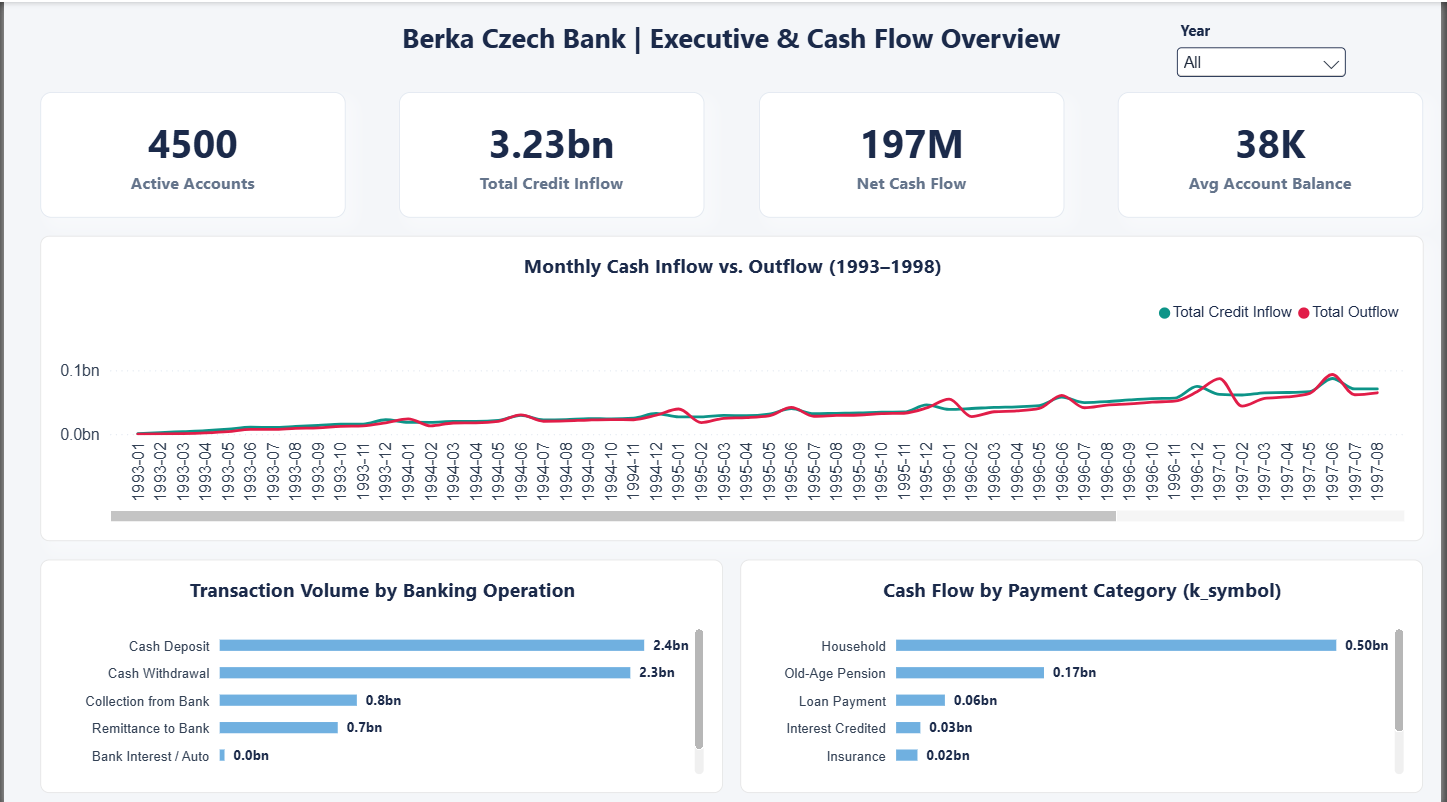

This screenshot's page, from the dashboard's own definition file:
{"tool":"powerbi","page":{"name":"Executive Overview","canvas":[1280,720],"ordinal":0},"visuals":[{"type":"textbox","box":[16,16,1264,48],"z":0},{"type":"slicer","fields":{"Values":["DimDate.Year"]},"box":[1040,16,160,64],"z":1000},{"type":"card","fields":{"Values":["_Measures.Active Accounts"]},"box":[32,80,272,112],"z":2000},{"type":"card","fields":{"Values":["_Measures.Avg Account Balance"]},"box":[992,80,272,112],"z":3000},{"type":"card","fields":{"Values":["_Measures.Net Cash Flow"]},"box":[672,80,272,112],"z":4000},{"type":"card","fields":{"Values":["_Measures.Total Credit Inflow"]},"box":[352,80,272,112],"z":5000},{"type":"lineChart","title":"Monthly Cash Inflow vs. Outflow (1993–1998)","fields":{"Category":["DimDate.Year-Month"],"Y":["_Measures.Total Credit Inflow","_Measures.Total Outflow"]},"box":[32,208,1232,272],"z":6000},{"type":"barChart","title":"Transaction Volume by Banking Operation","fields":{"Category":["vw_monthly_transactions.operation"],"Y":["Sum(vw_monthly_transactions.total_amount)"]},"box":[32,496,608,208],"z":7000},{"type":"barChart","title":"Cash Flow by Payment Category (k_symbol)","fields":{"Category":["vw_monthly_transactions.k_symbol"],"Y":["Sum(vw_monthly_transactions.total_amount)"]},"box":[656,496,608,208],"z":8000}]}

Visuals, with their boxes in screenshot pixels (x1, y1, x2, y2), scaled from the page's 1280x720 canvas onto the 1447x802 screenshot:
textbox: 18, 18, 1446, 71
slicer - DimDate.Year: 1176, 18, 1357, 89
card - _Measures.Active Accounts: 36, 89, 344, 214
card - _Measures.Avg Account Balance: 1121, 89, 1429, 214
card - _Measures.Net Cash Flow: 760, 89, 1067, 214
card - _Measures.Total Credit Inflow: 398, 89, 705, 214
"Monthly Cash Inflow vs. Outflow (1993–1998)" lineChart: 36, 232, 1429, 535
"Transaction Volume by Banking Operation" barChart: 36, 552, 724, 784
"Cash Flow by Payment Category (k_symbol)" barChart: 742, 552, 1429, 784
